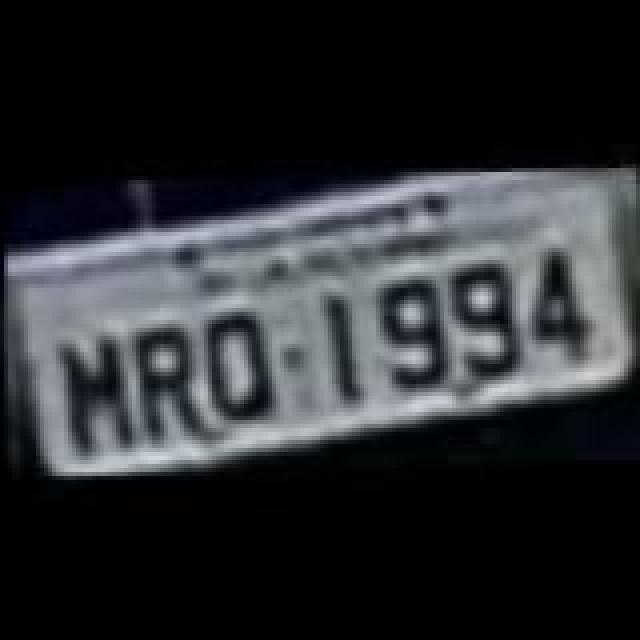1: (314, 280, 370, 396)
4: (520, 246, 604, 370)
9: (438, 246, 526, 378), (370, 268, 450, 392)
M: (56, 326, 144, 458)
O: (196, 304, 276, 432)
R: (128, 312, 208, 444)
